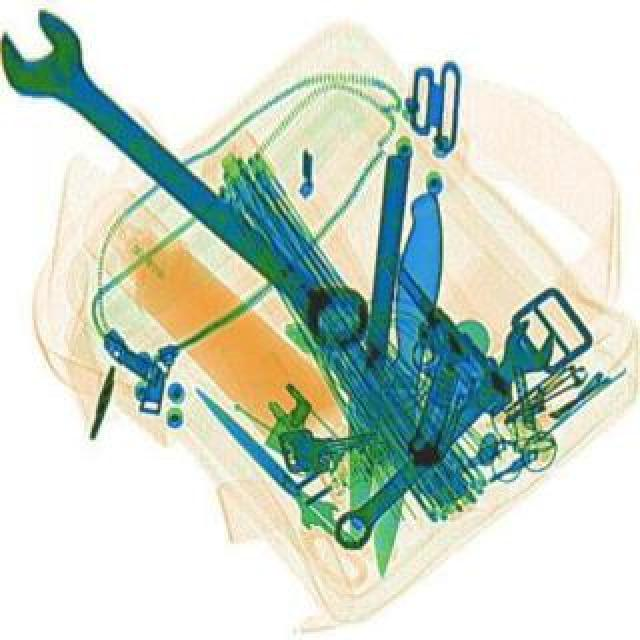gun: (304, 248, 524, 468)
knife: (350, 188, 446, 576), (180, 372, 352, 544), (334, 148, 408, 532)
scissors: (0, 14, 384, 360), (314, 306, 568, 558)
